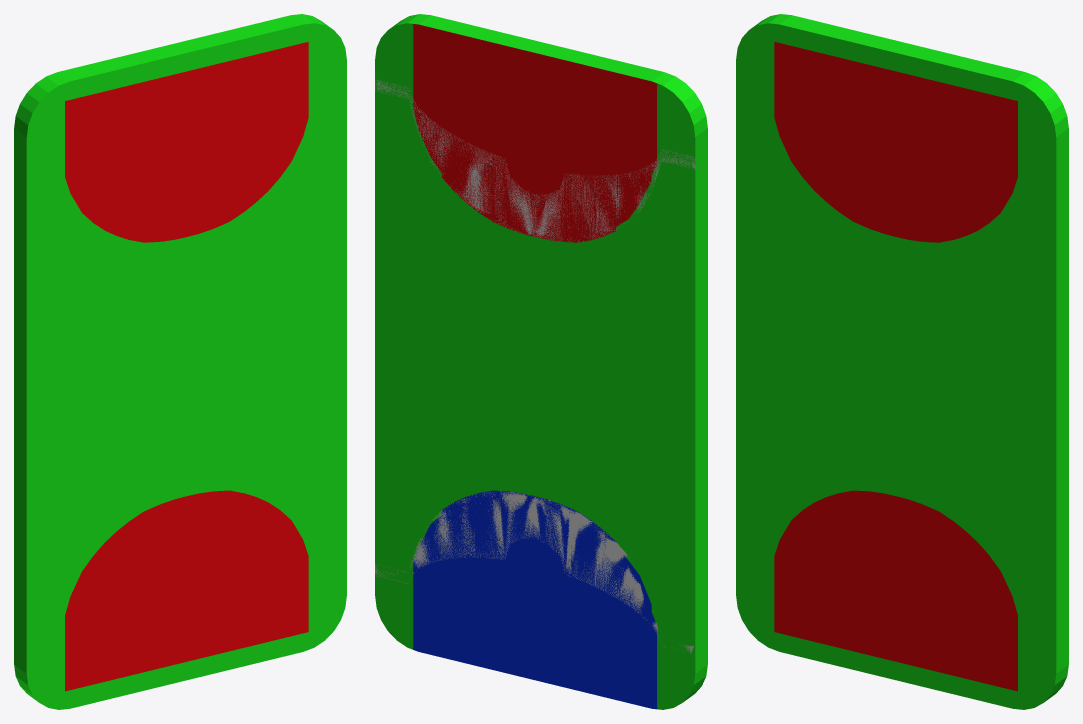
Rendered from Arena.fbx.
3 renders of one model, left to right at view 1: azimuth 30°, elevation 25°; view 2: azimuth 150°, elevation 25°; view 3: azimuth 330°, elevation 25°, orthographic.
Parts seen in each view (by area): view 1: Arena.001; view 2: Arena.001, Lines.001; view 3: Arena.001.
Boxes of the visible parts, x1,y1,x2,y2 form: Arena.001: (14, 14, 346, 709); Arena.001: (375, 14, 707, 709); Lines.001: (375, 78, 695, 653); Arena.001: (736, 14, 1068, 709).
Bounding box in the file's own units: 1492 × 2794 × 102.
